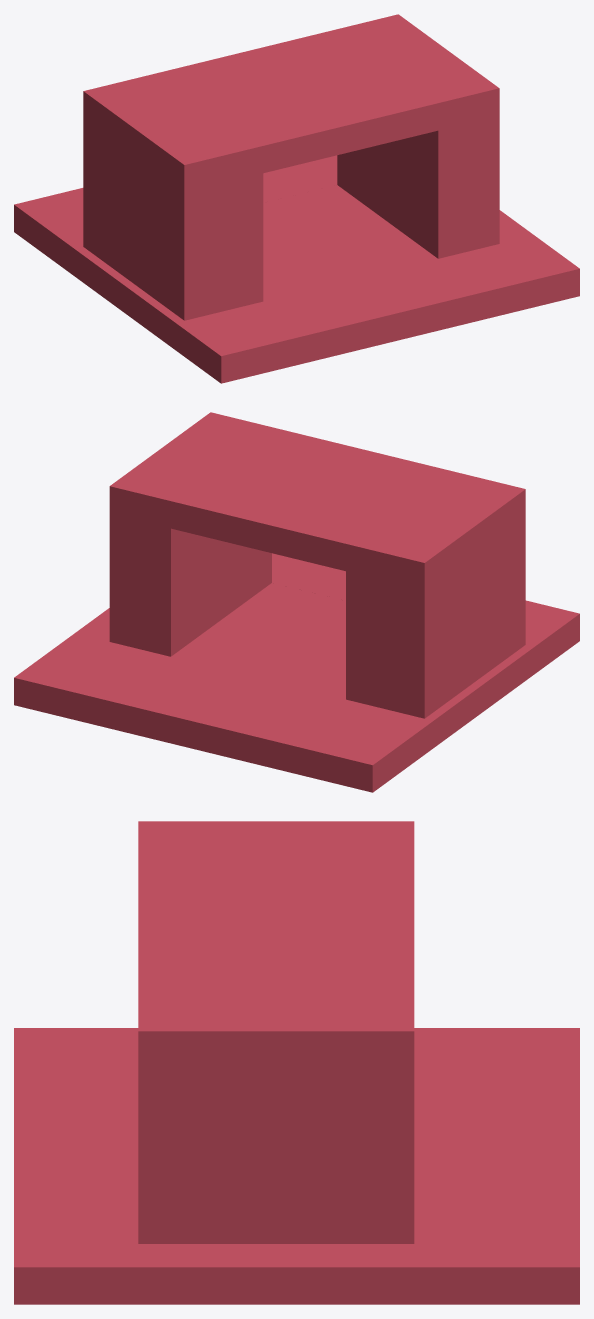
File: projetcompleto.glb
3 views of the same model, one above another, from view 1: azimuth 30°, elevation 25°; view 2: azimuth 150°, elevation 25°; view 3: azimuth 270°, elevation 25° (orthographic). The views are drawn at different scales.
Visible parts, largest first — view 1: Mesh_Mesh_head_geo.001_lambert2SG.001; view 2: Mesh_Mesh_head_geo.001_lambert2SG.001; view 3: Mesh_Mesh_head_geo.001_lambert2SG.001.
Boxes of the visible parts, x1=… form: Mesh_Mesh_head_geo.001_lambert2SG.001: x1=14, y1=14, x2=579, y2=383; Mesh_Mesh_head_geo.001_lambert2SG.001: x1=14, y1=412, x2=579, y2=792; Mesh_Mesh_head_geo.001_lambert2SG.001: x1=14, y1=821, x2=579, y2=1304.
Bounding box in the file's own units: 20.5 × 10 × 20.5.
